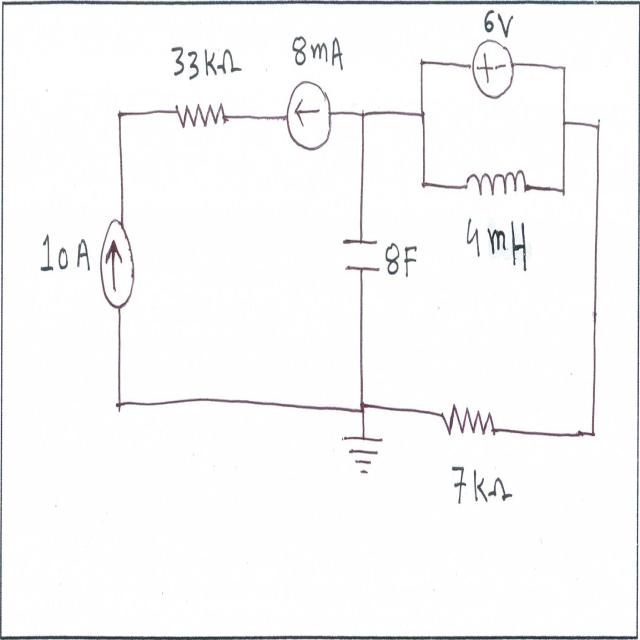capacitor: (342, 219, 384, 289)
current_source: (95, 216, 139, 316), (283, 72, 336, 155)
ground: (337, 425, 389, 483)
inductor: (461, 160, 533, 212)
resistor: (433, 397, 503, 453), (171, 91, 235, 142)
voltage_source: (468, 34, 518, 106)
